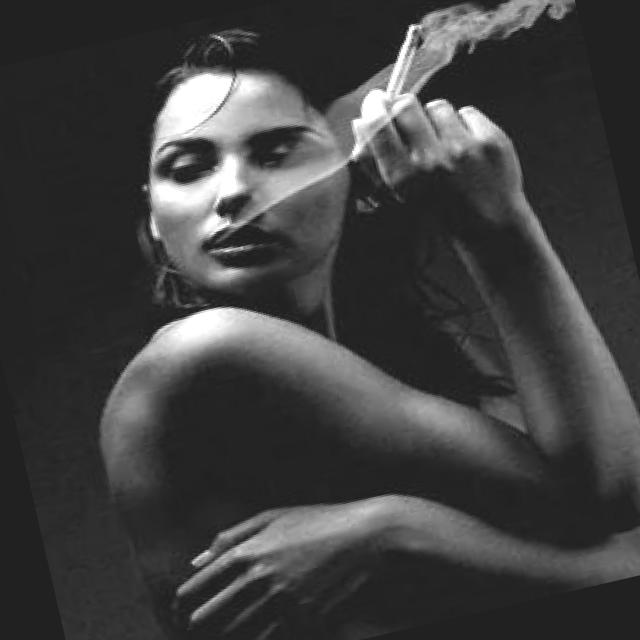smoke: (367, 12, 438, 110)
